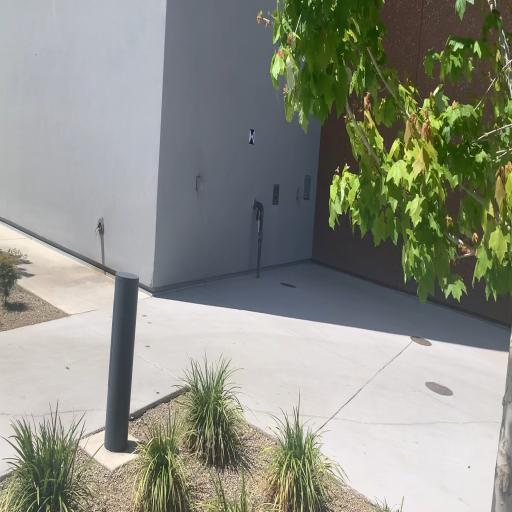target3: (249, 128, 255, 145)
